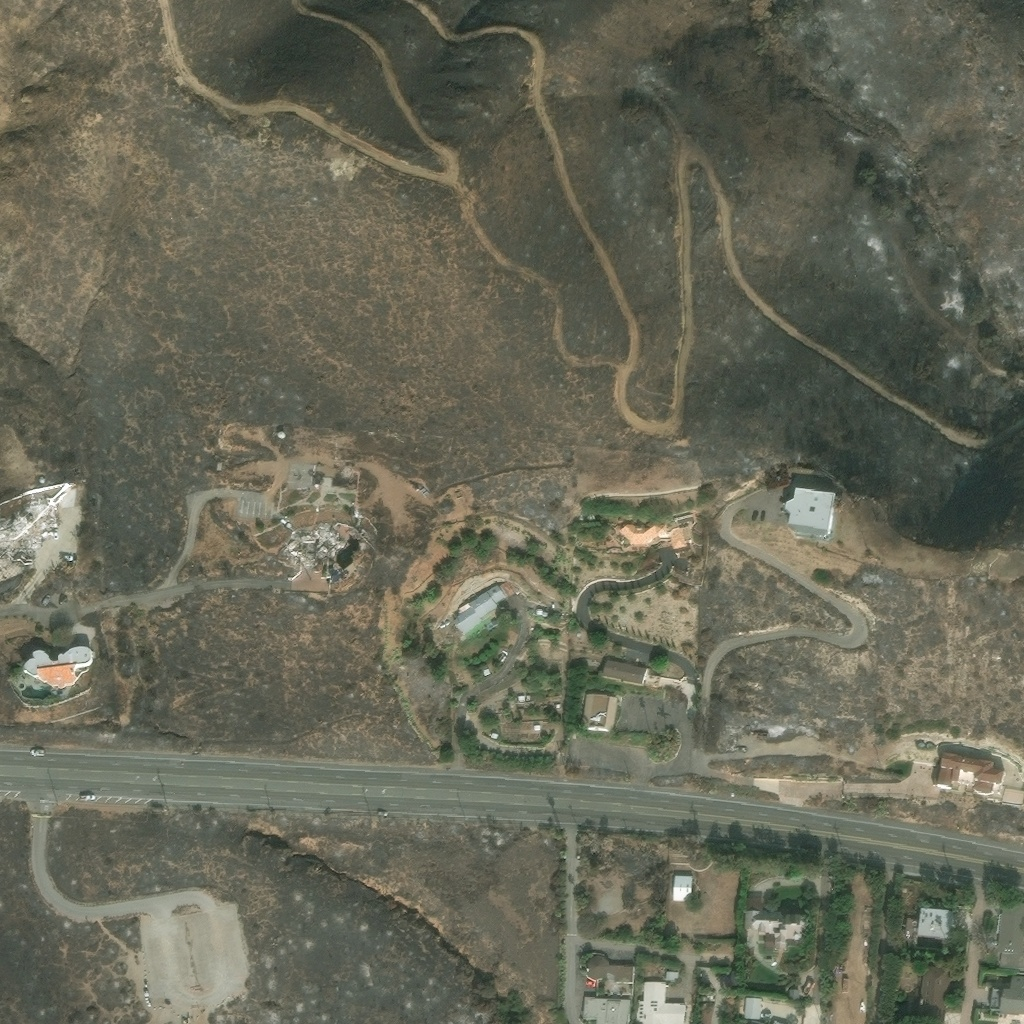0 no-damage: (453, 581, 516, 635), (23, 647, 92, 690), (935, 752, 1002, 794), (783, 488, 835, 540), (619, 514, 696, 549), (744, 909, 807, 949), (637, 981, 686, 1023), (917, 965, 951, 1022), (996, 902, 1023, 970), (902, 909, 954, 940), (988, 975, 1023, 1015), (584, 956, 632, 983), (600, 657, 646, 685), (580, 694, 616, 729), (581, 997, 629, 1023), (672, 876, 693, 902), (745, 998, 761, 1019), (745, 894, 764, 910), (484, 619, 500, 632), (664, 972, 677, 982), (788, 990, 797, 1000), (277, 431, 285, 438)
3 destroyed: (0, 502, 52, 559), (283, 518, 340, 568), (342, 465, 351, 473)
